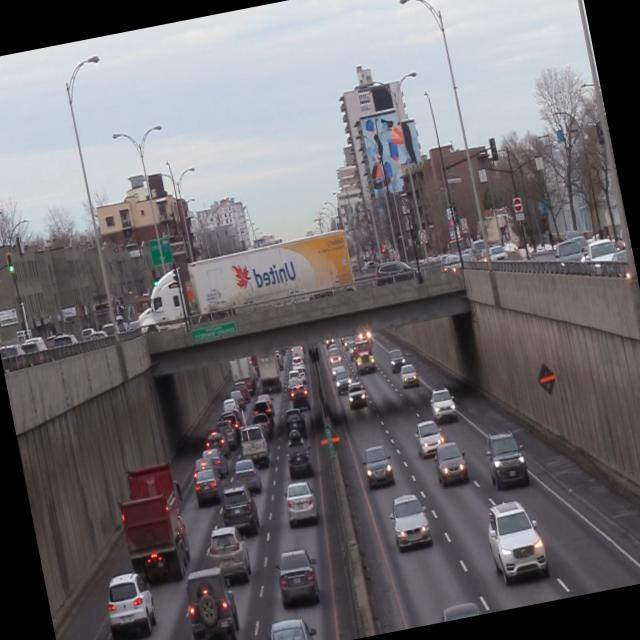Vehicle: (110, 462, 198, 584), (480, 492, 553, 584), (99, 568, 162, 640), (179, 572, 242, 640), (270, 546, 326, 610), (481, 426, 529, 491), (204, 524, 254, 586), (386, 489, 434, 553), (218, 481, 261, 540), (280, 476, 321, 526), (430, 439, 470, 488), (280, 430, 317, 480), (360, 441, 396, 491), (260, 612, 321, 640), (412, 418, 445, 460), (426, 382, 459, 424), (238, 424, 270, 466), (191, 466, 223, 507), (231, 458, 264, 496), (344, 379, 368, 410), (398, 360, 421, 392), (386, 343, 406, 375), (333, 366, 353, 394)
